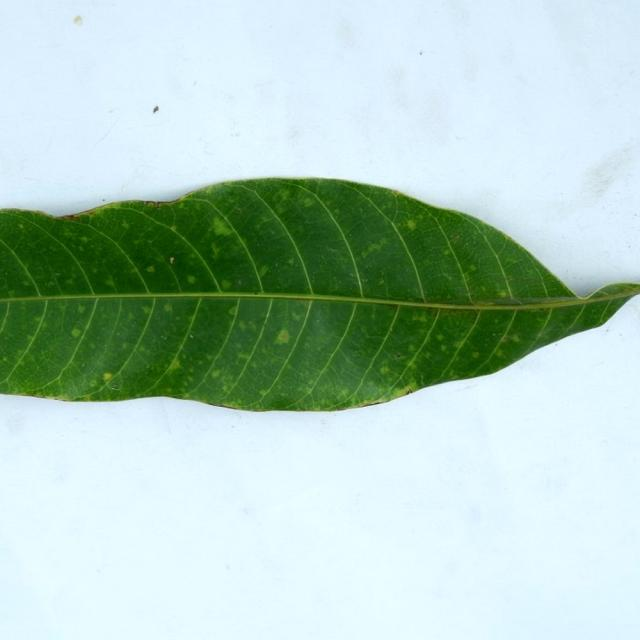Mango: (0, 180, 639, 410)
Powdery_Mildew: (266, 320, 295, 349), (210, 215, 233, 236), (209, 241, 224, 259), (400, 378, 418, 393), (165, 358, 184, 372), (366, 242, 381, 253), (508, 333, 522, 342), (70, 327, 81, 338), (228, 305, 239, 316), (220, 279, 231, 289), (292, 311, 303, 321), (303, 197, 314, 207), (406, 220, 416, 230), (103, 372, 113, 381), (211, 369, 221, 378), (186, 275, 196, 284), (238, 320, 247, 330), (496, 349, 506, 358), (238, 352, 249, 360), (163, 303, 172, 312), (456, 340, 466, 348), (380, 366, 389, 374), (77, 304, 85, 313), (105, 279, 114, 287), (142, 305, 151, 313), (259, 389, 269, 396), (436, 335, 445, 342), (467, 264, 476, 271), (498, 291, 508, 297), (147, 266, 155, 273), (287, 258, 295, 265), (472, 351, 479, 358), (169, 257, 175, 264), (441, 345, 448, 351)
